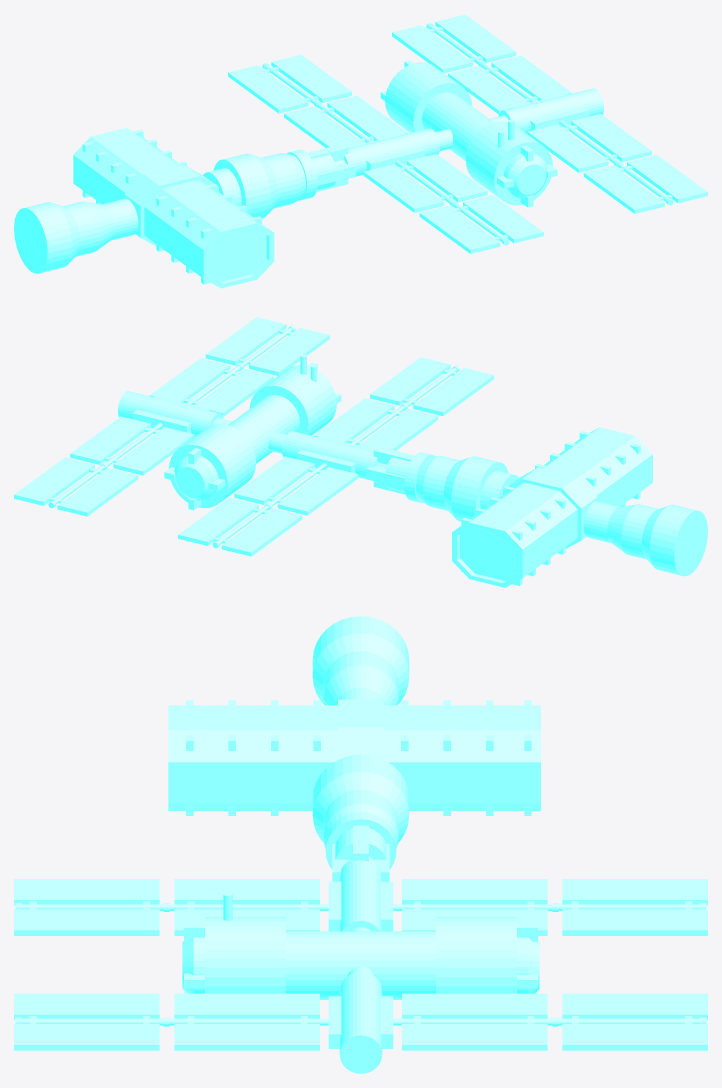
The model's file is Human_BattleShip.fbx.
3 views of the same model, one above another, from view 1: azimuth 30°, elevation 25°; view 2: azimuth 150°, elevation 25°; view 3: azimuth 270°, elevation 25° (orthographic). The views are drawn at different scales.
Visible parts, largest first — view 1: Cylinder.022; view 2: Cylinder.022; view 3: Cylinder.022.
Part boxes in pixels (x1,y1,x2,y2): Cylinder.022: (14, 14, 707, 288); Cylinder.022: (14, 317, 707, 587); Cylinder.022: (14, 616, 707, 1073).
Size of the model in its own units: 19747 by 2644 by 14669.
